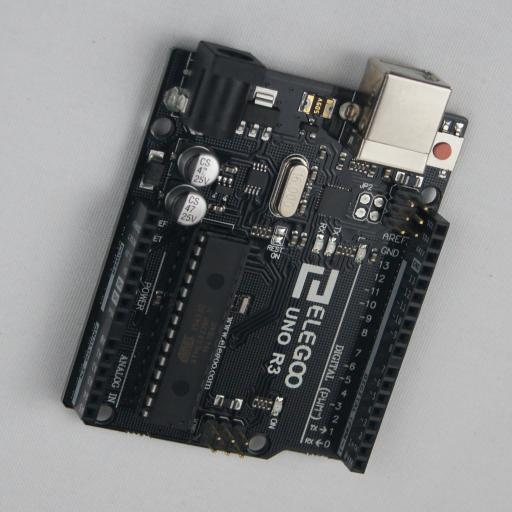Arduino Uno -Black-: (61, 40, 468, 474)
